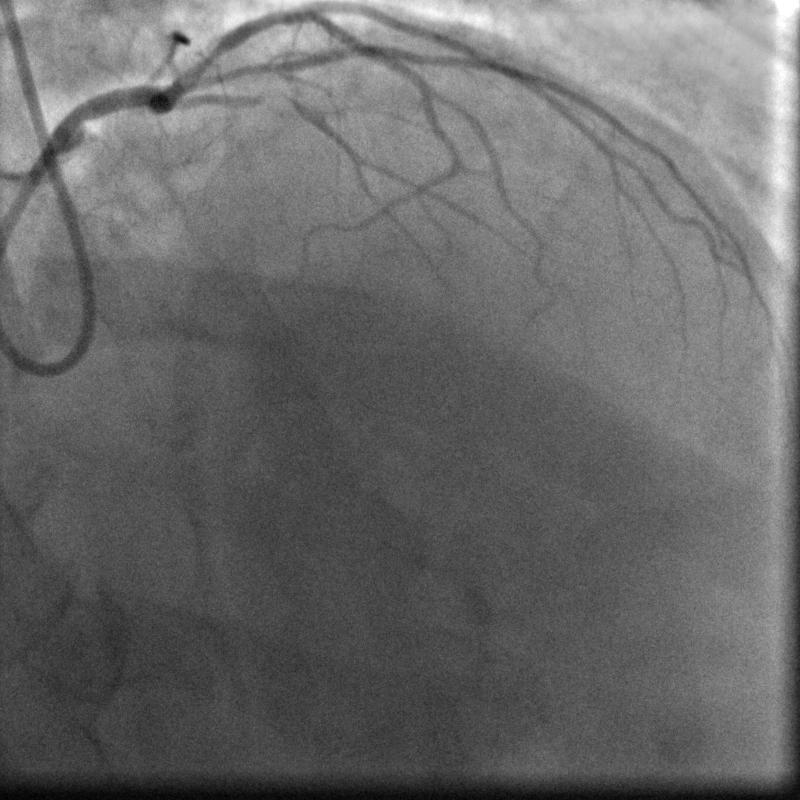Stenosis: (193, 43, 228, 69)
